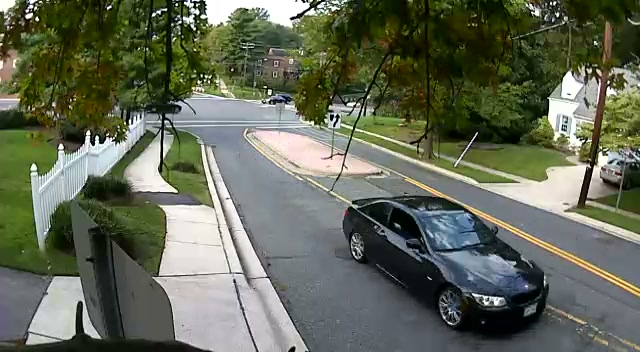car: (341, 194, 550, 333), (600, 151, 640, 188), (268, 94, 292, 105)
